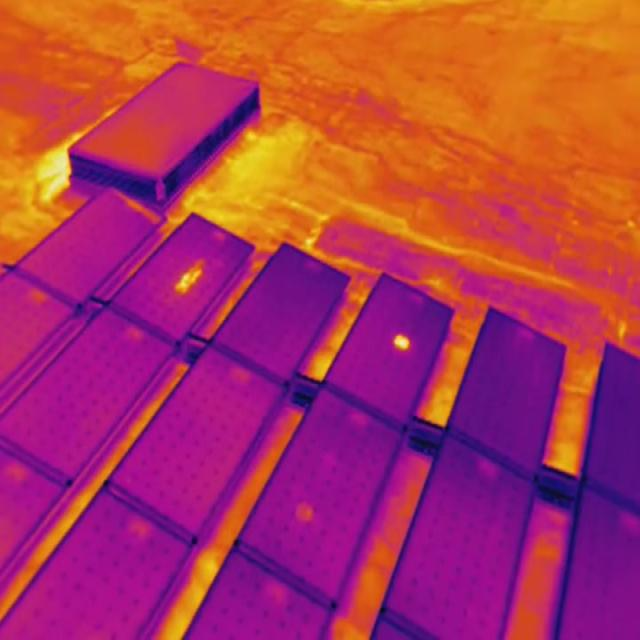Orange-Spots: (174, 258, 203, 295), (394, 329, 411, 350), (298, 501, 314, 517)
